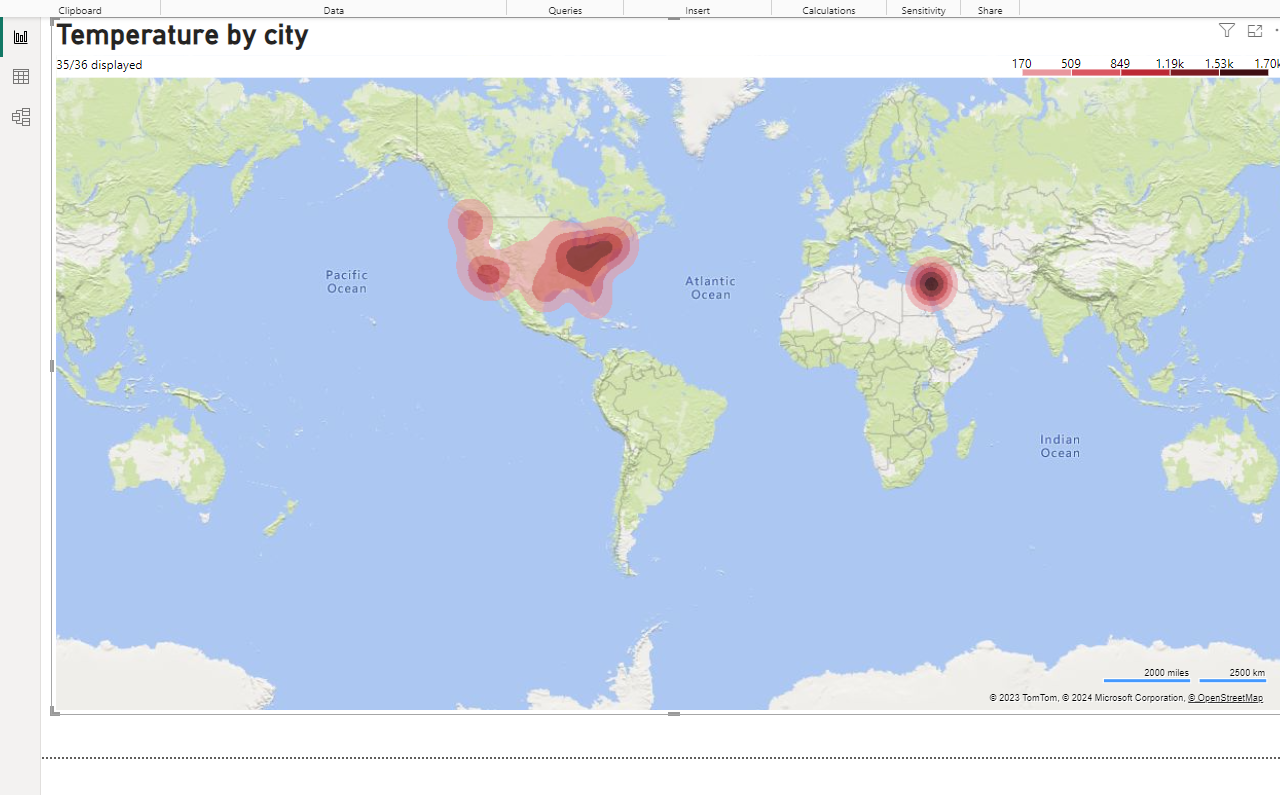

The dashboard page shown, as its layout file describes it:
{"tool":"powerbi","page":{"name":"tempheatmap","canvas":[1280,720],"ordinal":1},"visuals":[{"type":"heatmapF244EA9EE1F34E828A80CF19B41976F8","title":" Temperature by city","fields":{"location":["temp.city"],"value":["Sum(temp.temp)"]},"box":[9.7,0,1210.9,678.9],"z":0}]}

Visuals, with their boxes on the page's 1280x720 design canvas (x1, y1, x2, y2). These are canvas units, not pixel positions in the 1280x795 screenshot, which may show the page scaled, cropped or inside an application window:
" Temperature by city" heatmapF244EA9EE1F34E828A80CF19B41976F8: <bbox>10, 0, 1221, 679</bbox>
